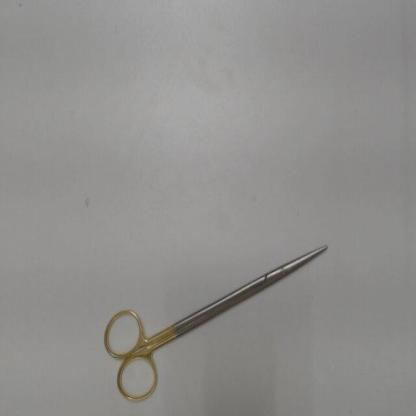7 Metzenbaum Scissors: (98, 241, 332, 408)
